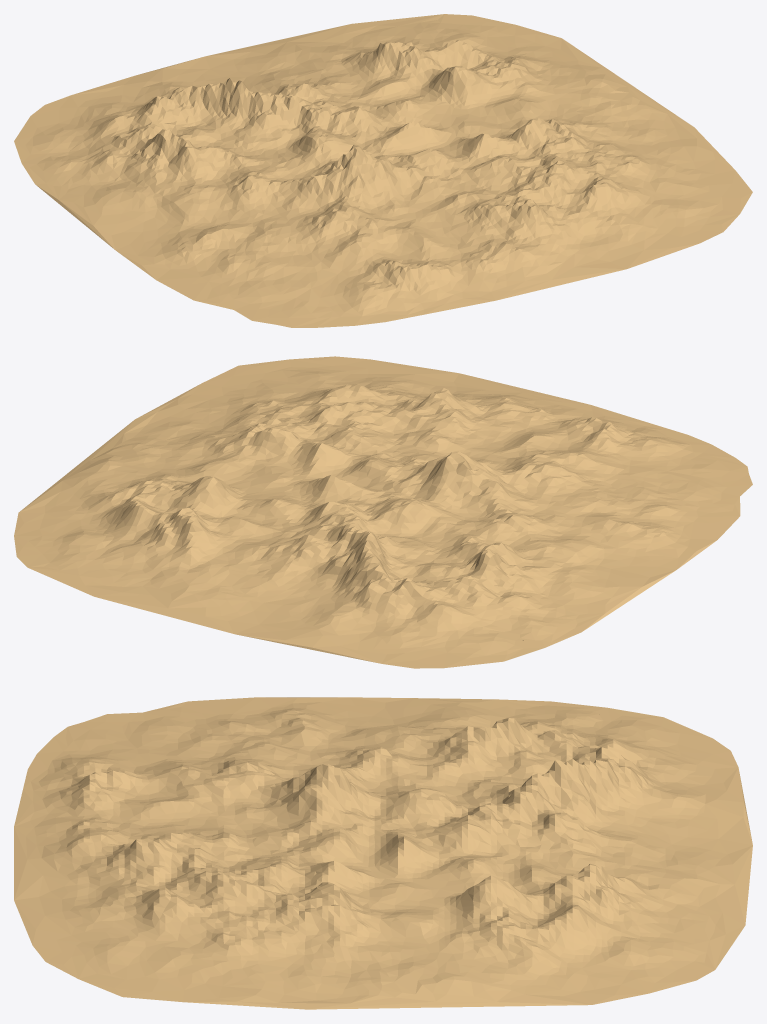
The model's file is MT_Island_H_c_02.fbx.
3 views of the same model, one above another, from view 1: azimuth 30°, elevation 25°; view 2: azimuth 150°, elevation 25°; view 3: azimuth 270°, elevation 25° (orthographic). The views are drawn at different scales.
Visible parts, largest first — view 1: MT_Island_H_c_02; view 2: MT_Island_H_c_02; view 3: MT_Island_H_c_02.
Part boxes in pixels (x1,y1,x2,y2): MT_Island_H_c_02: [14, 14, 752, 327]; MT_Island_H_c_02: [14, 356, 752, 668]; MT_Island_H_c_02: [14, 697, 752, 1009].
Size of the model in its own units: 50000 by 4596 by 50000.
